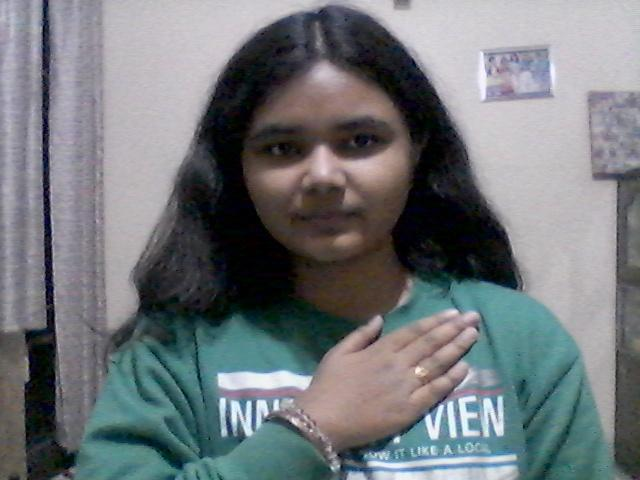please: (284, 308, 489, 456)
